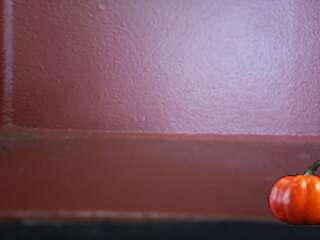Pumpkin: (268, 161, 320, 225)
